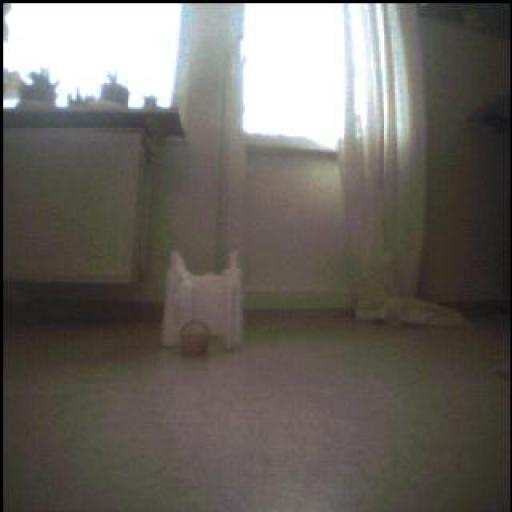Basket: (180, 321, 212, 356)
